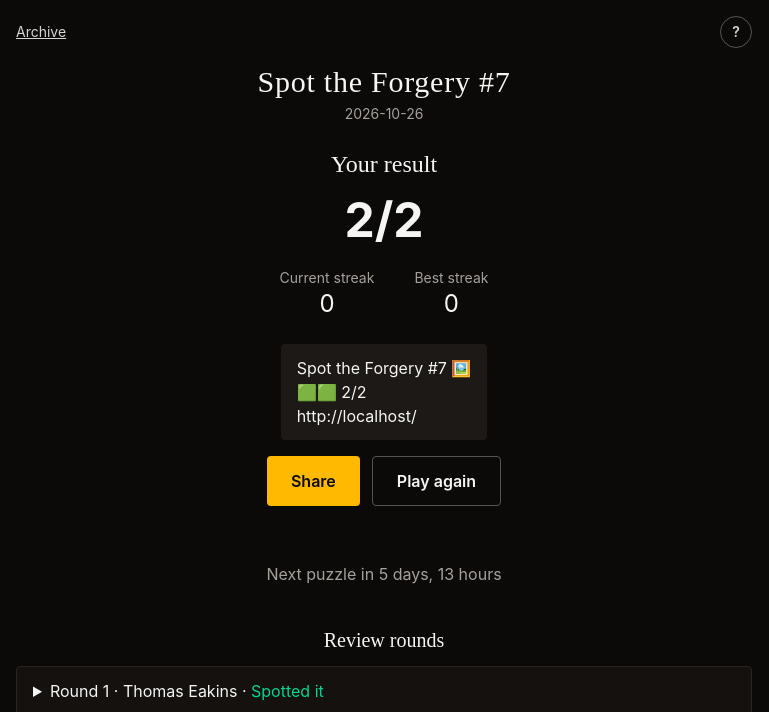
Test case: the results screen › copies the result when the share sheet fails
The image size is (769, 712).
Click the button "Share". click: x=313, y=481
box: [267,456,360,506]
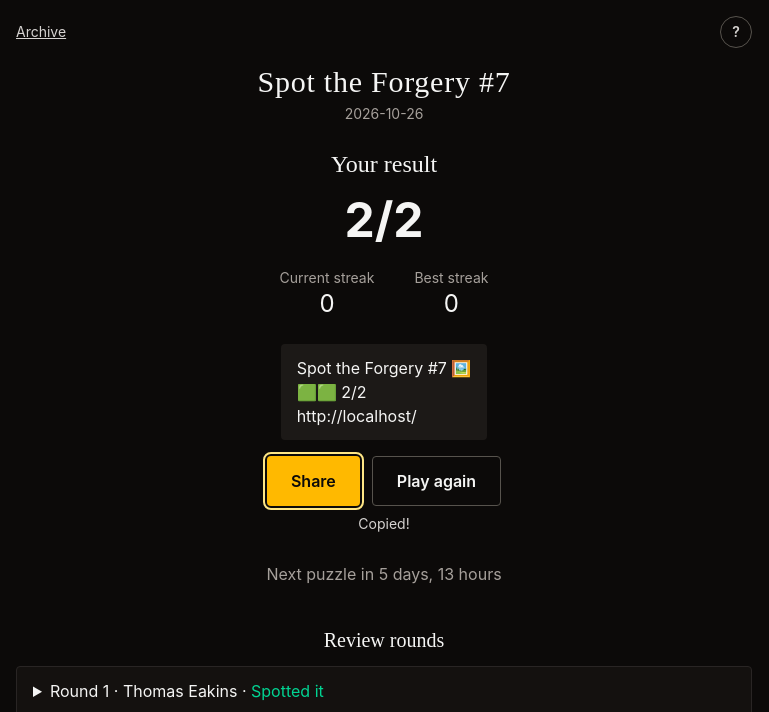
Expected: the text "Copied!" is shown, [358,515,410,532]
